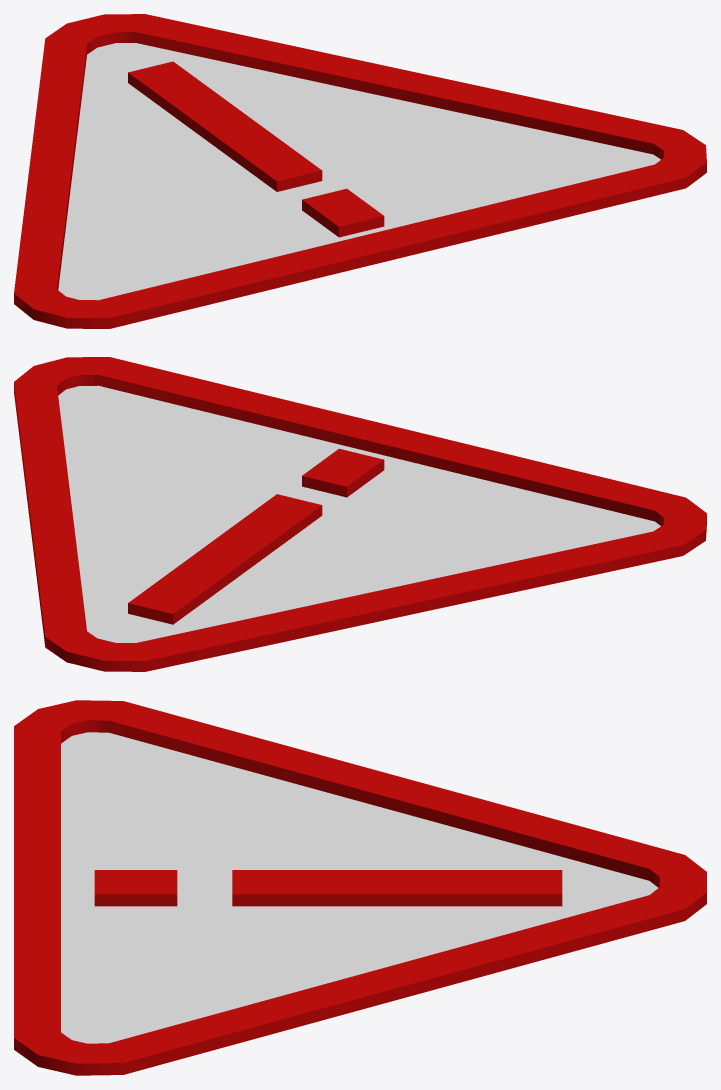
Rendered from Warnschild.fbx.
3 views of the same model, one above another, from view 1: azimuth 30°, elevation 25°; view 2: azimuth 150°, elevation 25°; view 3: azimuth 270°, elevation 25° (orthographic). The views are drawn at different scales.
Parts seen in each view (by area): view 1: Ebene, Würfel_1, Würfel; view 2: Ebene, Würfel_1, Würfel; view 3: Ebene, Würfel_1, Würfel.
Part boxes in pixels (x1=…): Ebene: x1=14, y1=14, x2=706, y2=328; Würfel_1: x1=128, y1=61, x2=322, y2=191; Würfel: x1=302, y1=188, x2=384, y2=237; Ebene: x1=14, y1=357, x2=706, y2=671; Würfel_1: x1=128, y1=494, x2=322, y2=624; Würfel: x1=302, y1=448, x2=384, y2=497; Ebene: x1=14, y1=700, x2=706, y2=1075; Würfel_1: x1=232, y1=870, x2=562, y2=906; Würfel: x1=94, y1=870, x2=177, y2=906.
Bounding box in the file's own units: 104 × 3.17 × 83.96.
